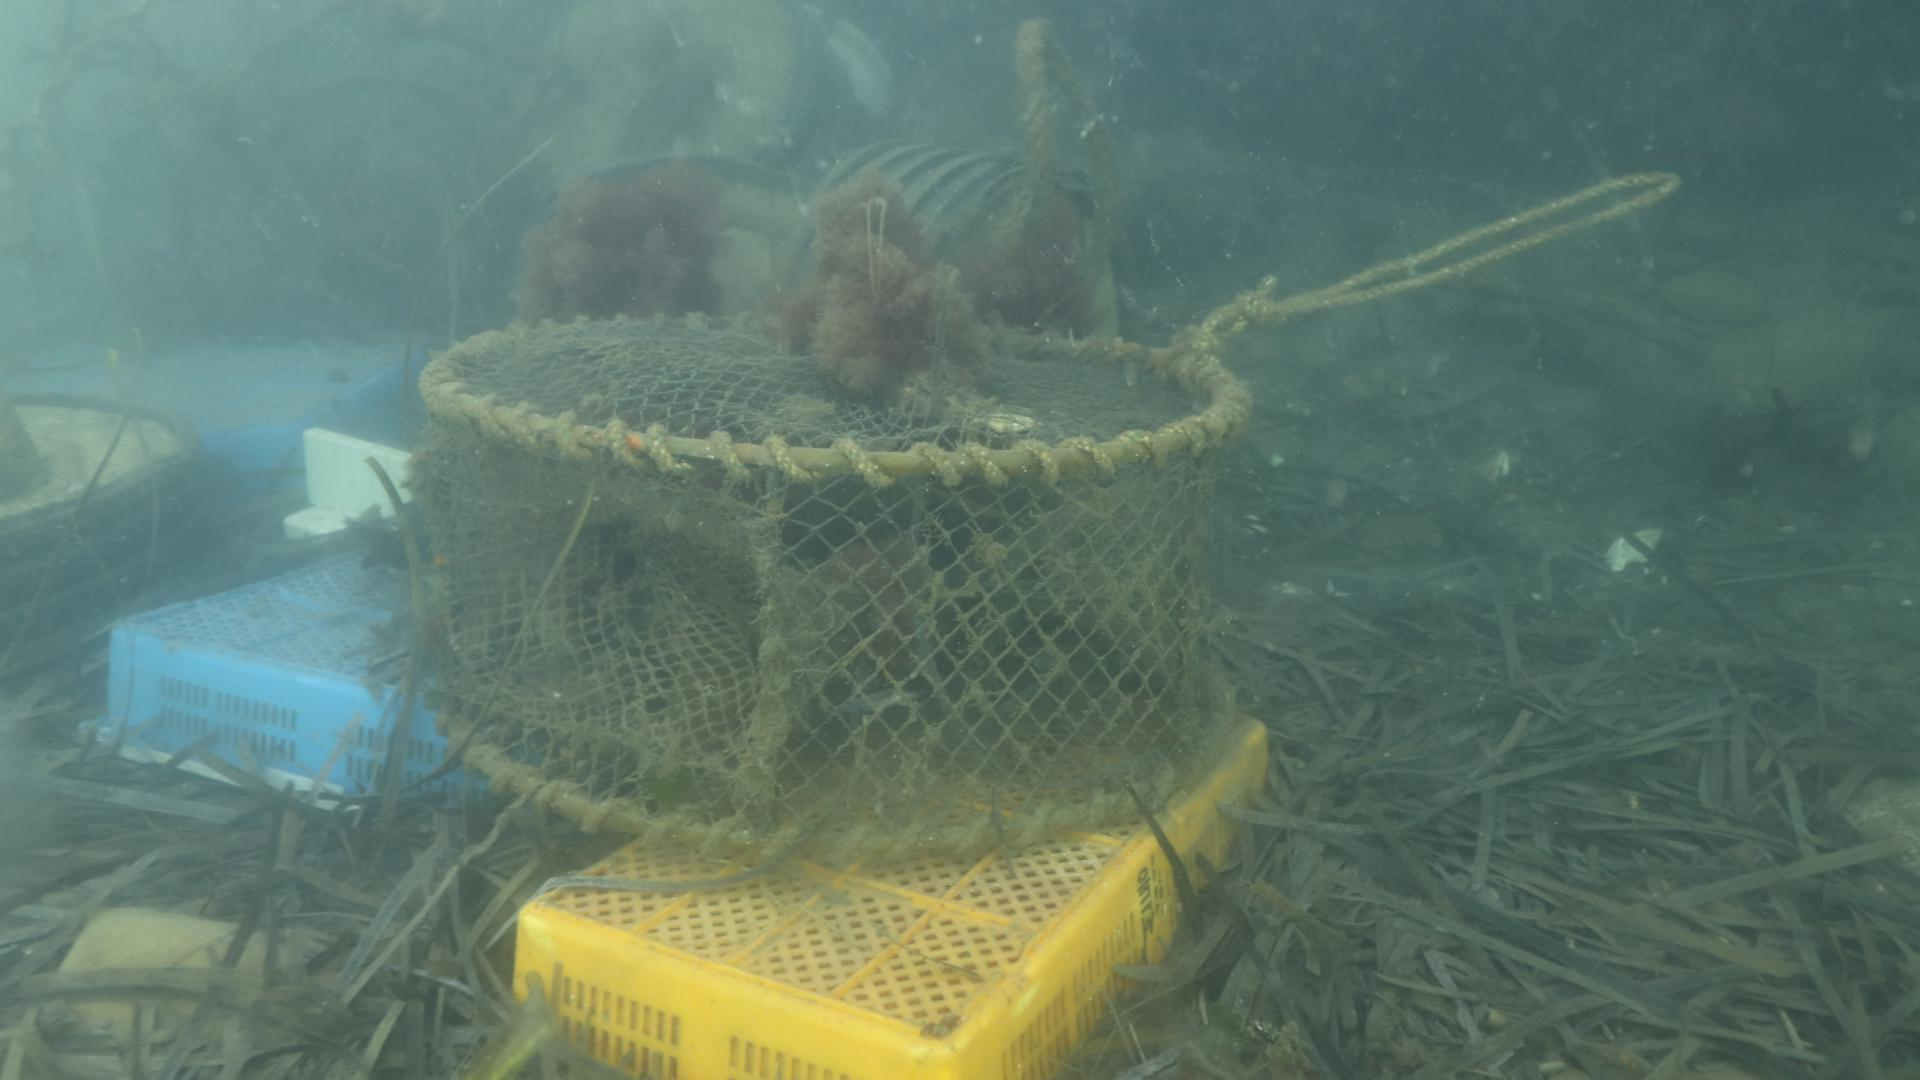bundle of ropes: (1215, 169, 1681, 338)
circular fish trap: (414, 307, 1257, 872)
rope: (971, 16, 1125, 334)
